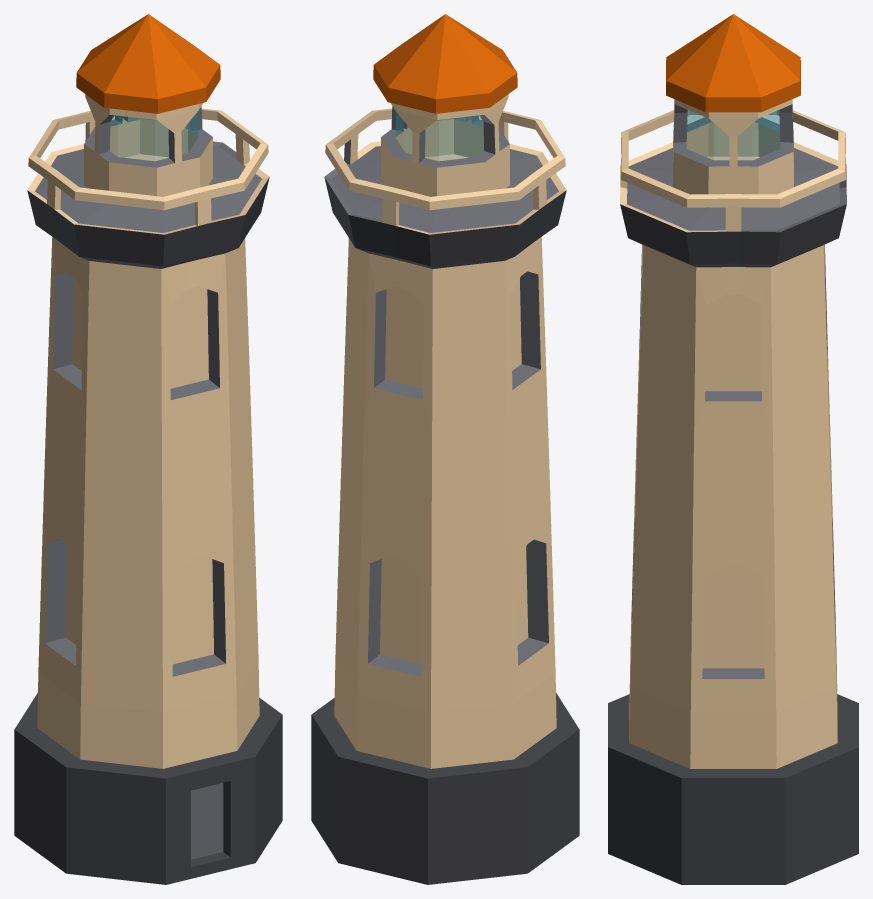
Rendered from orange_lighthouse_fixed.fbx.
3 views of the same model, side by side, from view 1: azimuth 30°, elevation 25°; view 2: azimuth 150°, elevation 25°; view 3: azimuth 270°, elevation 25° (orthographic).
Parts seen in each view (by area): view 1: Cylindre; view 2: Cylindre; view 3: Cylindre.
Part boxes in pixels (box(x1,y1,x2,y2)): Cylindre: box(14, 14, 282, 884); Cylindre: box(311, 14, 579, 884); Cylindre: box(608, 14, 858, 884).
Size of the model in its own units: 168 by 604 by 168.
